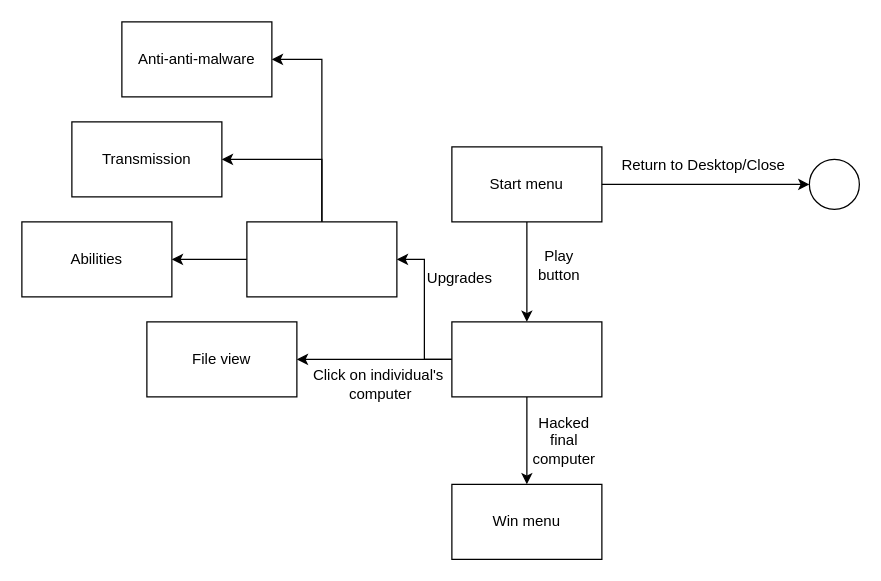
This 881x581 diagram has some shape labels left out. The shapes that lost their labels are listed below. From the top down, each one's box as (x1, y1, x2, y2) in pixels, then its label:
(808, 158, 859, 209): End
(246, 221, 397, 297): Upgrades screen
(451, 321, 602, 397): Playing
